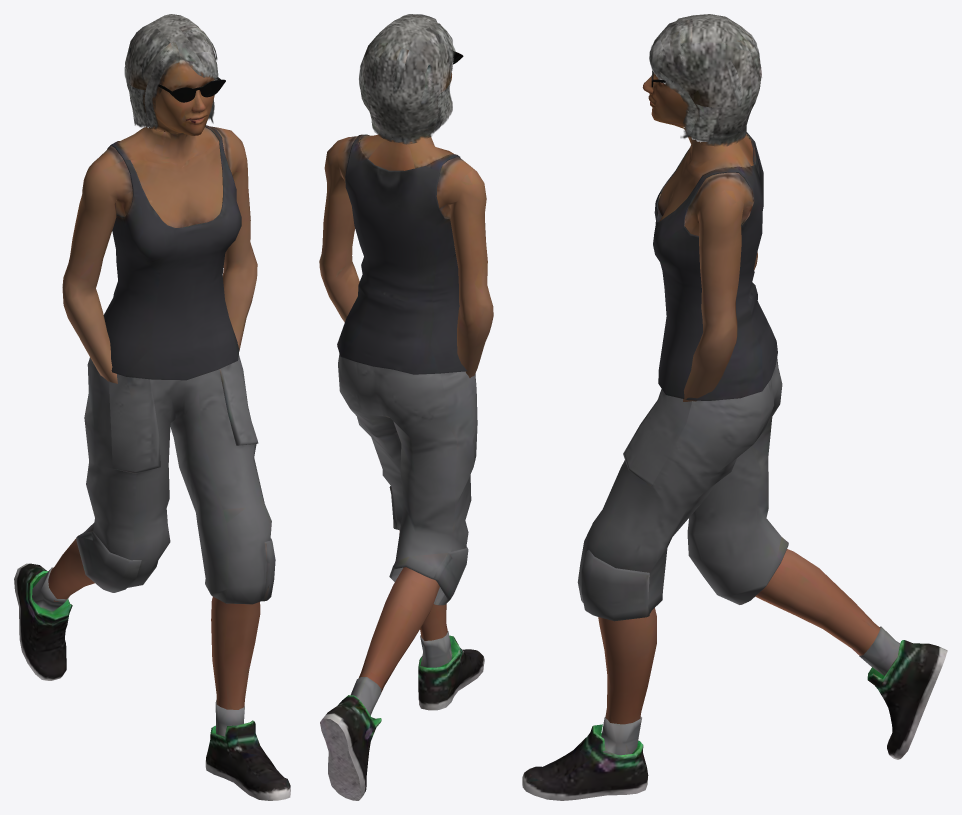
3 renders of one model, left to right at view 1: azimuth 30°, elevation 25°; view 2: azimuth 150°, elevation 25°; view 3: azimuth 270°, elevation 25°, orthographic. The views are drawn at different scales.
Parts seen in each view (by area): view 1: p03745; view 2: p03745; view 3: p03745.
Boxes of the visible parts, <box> form: p03745: <box>14,14,290,800</box>; p03745: <box>319,14,493,800</box>; p03745: <box>522,14,947,800</box>.
Size of the model in its own units: 0.3969 by 1.51 by 0.7648.
Materials: 1 (1 with a texture image).
